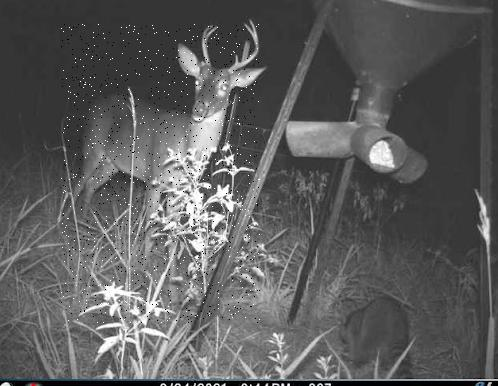Deer: (61, 24, 260, 323)
